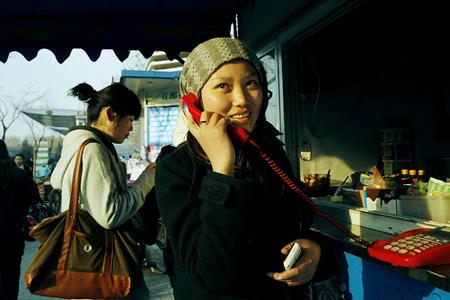person: (151, 36, 336, 298)
